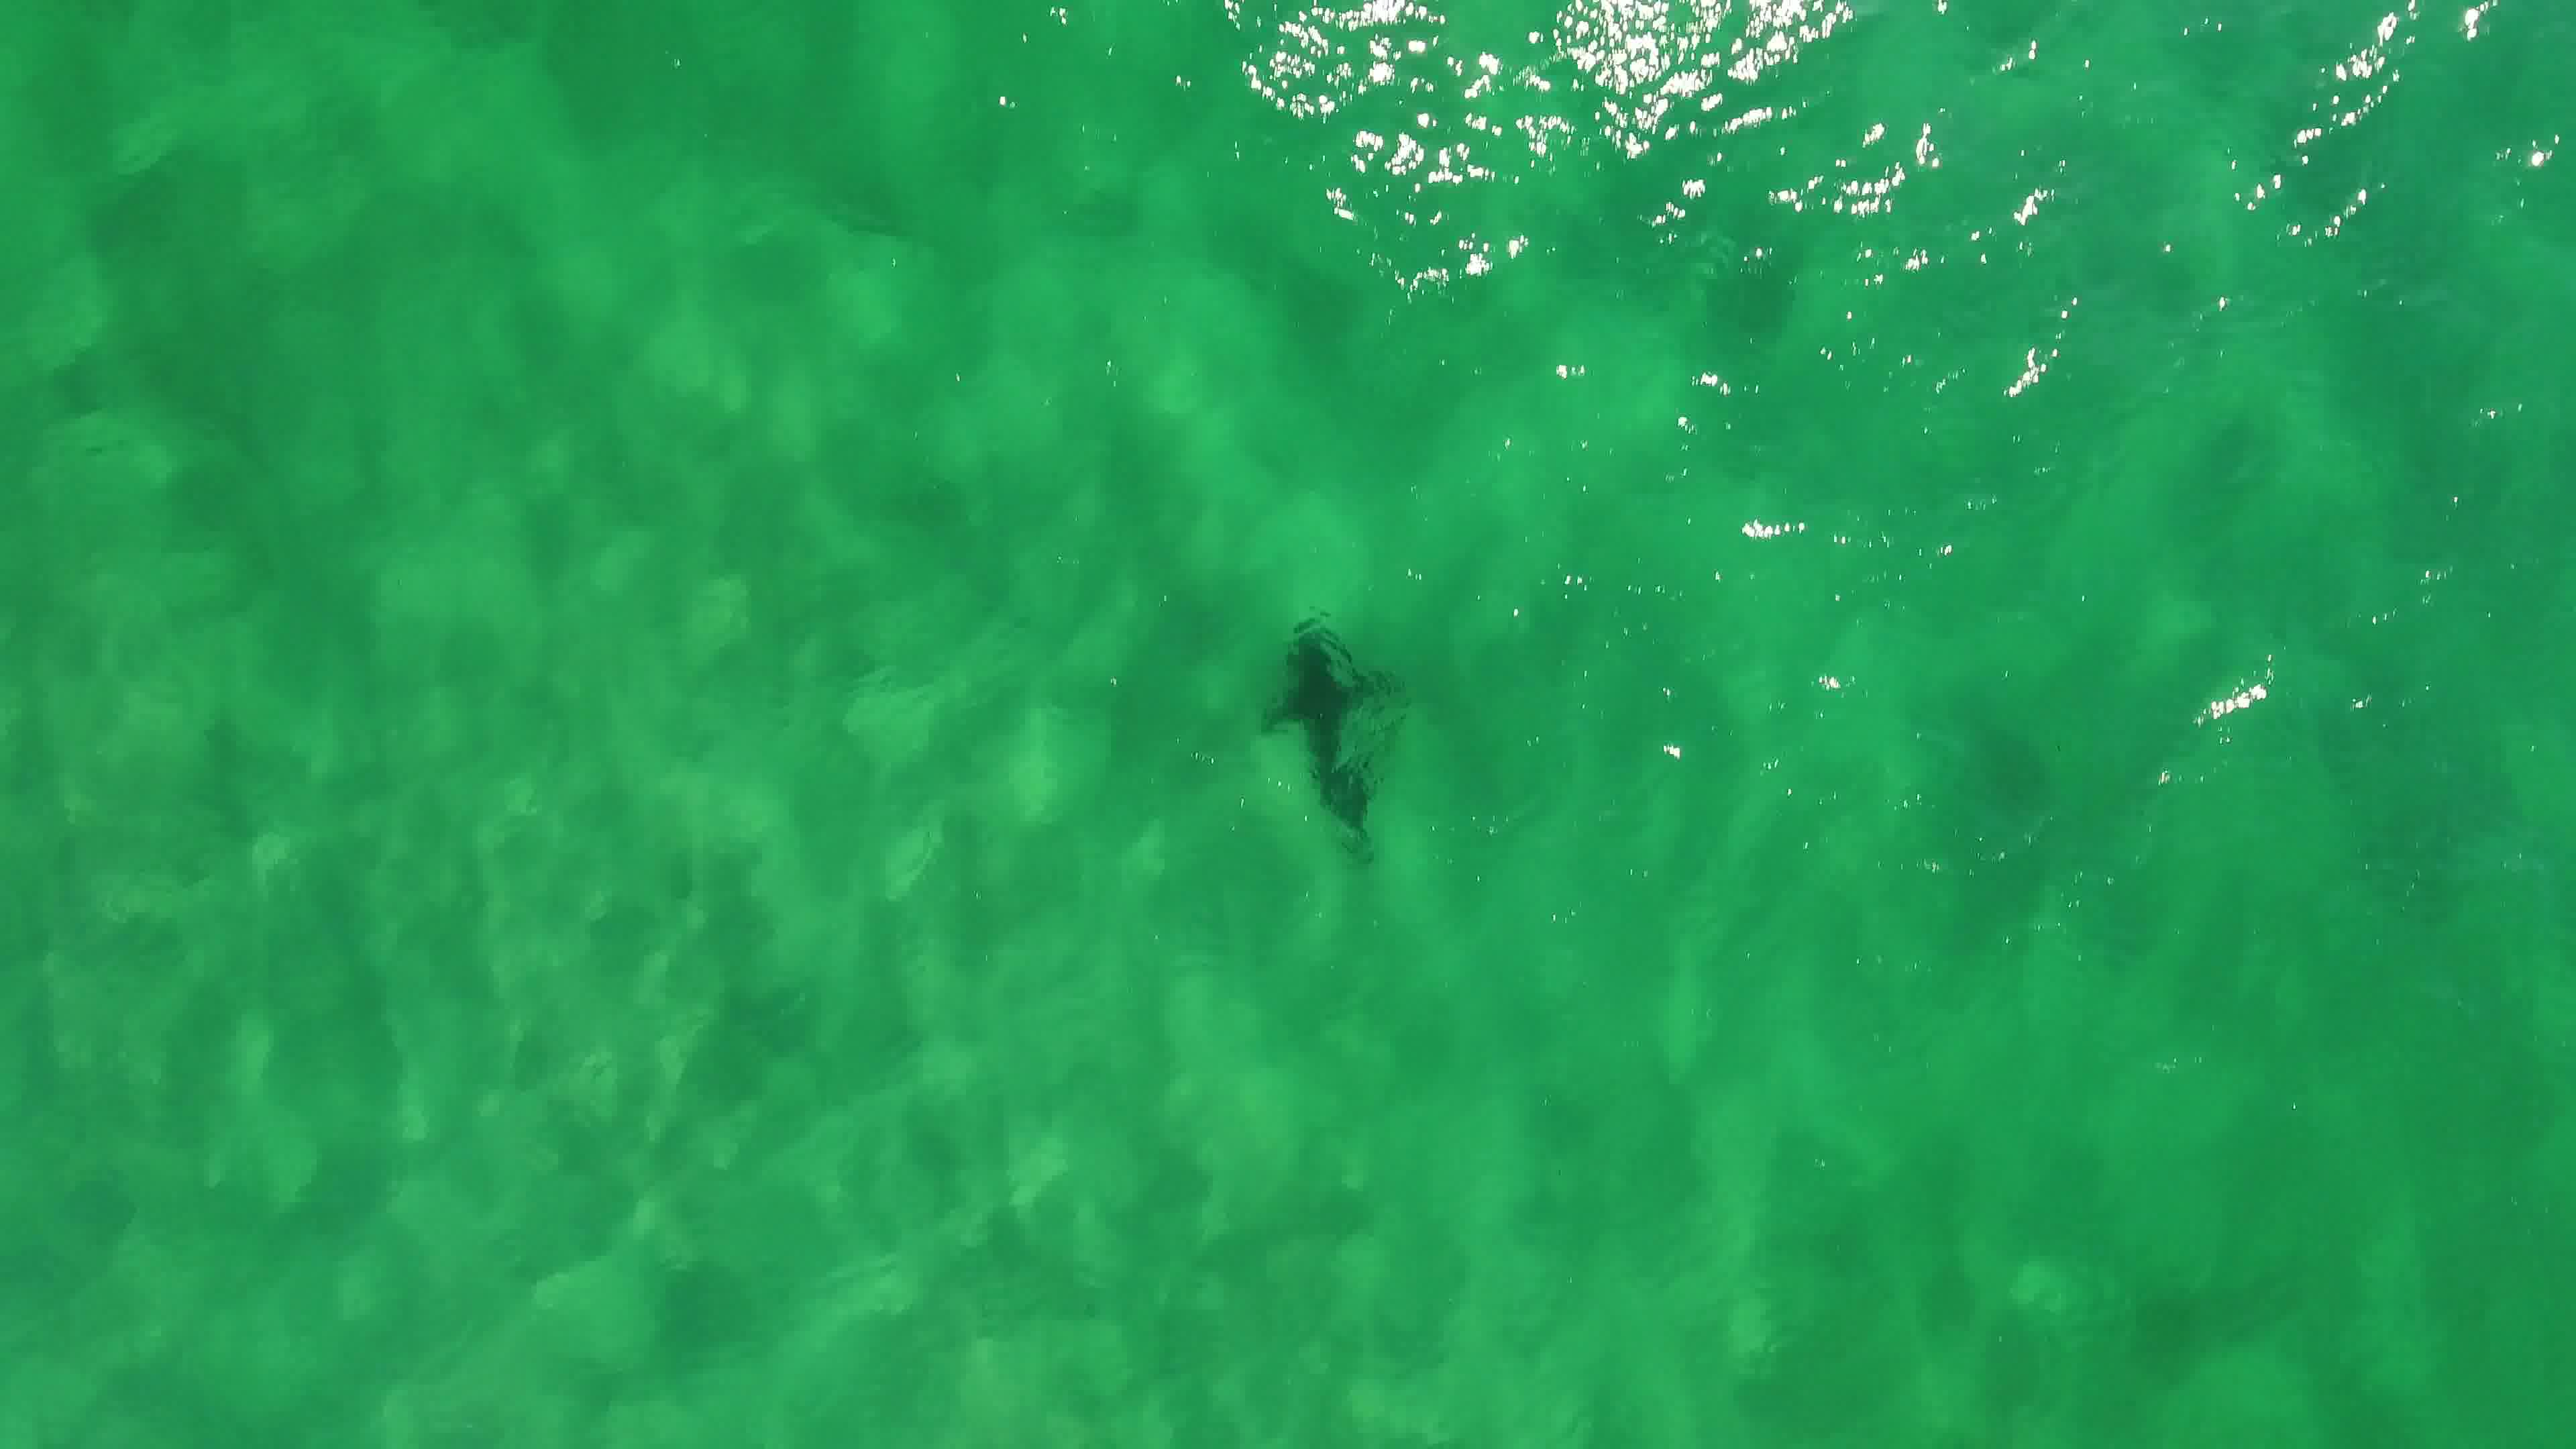shark: (1247, 614, 1401, 849)
